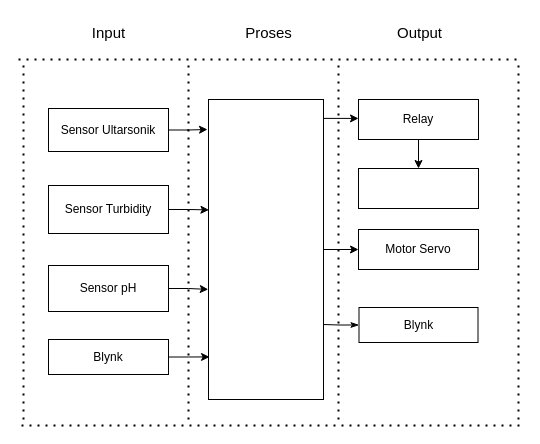
Some shapes in this 540 by 444 pixel diagram are drawn without their labels. The shapes that lost their labels are listed below. From the top down, each one's centre as x and y in pixels, then its label:
At [418,188]: "Pompa Aquarium dan Filter".
At [266,249]: "Mikrokontroler".
